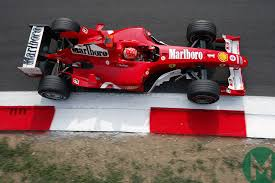FormulaOneCar: (22, 16, 251, 110)
